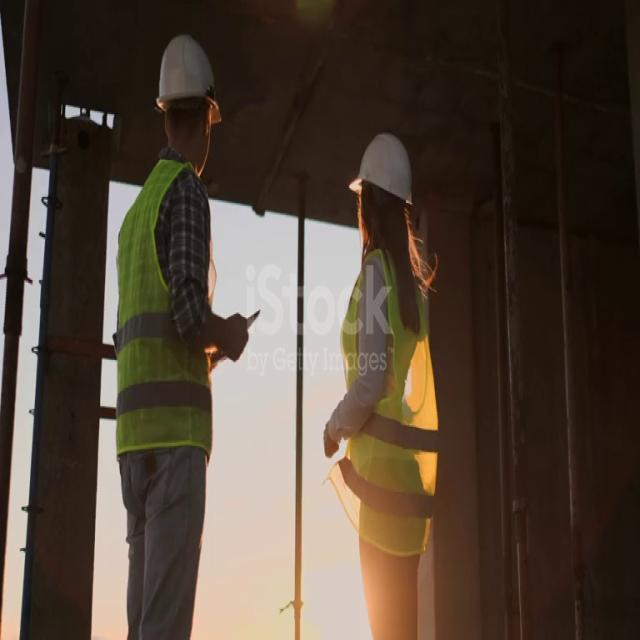capacete: (152, 30, 234, 144), (338, 123, 419, 218)
